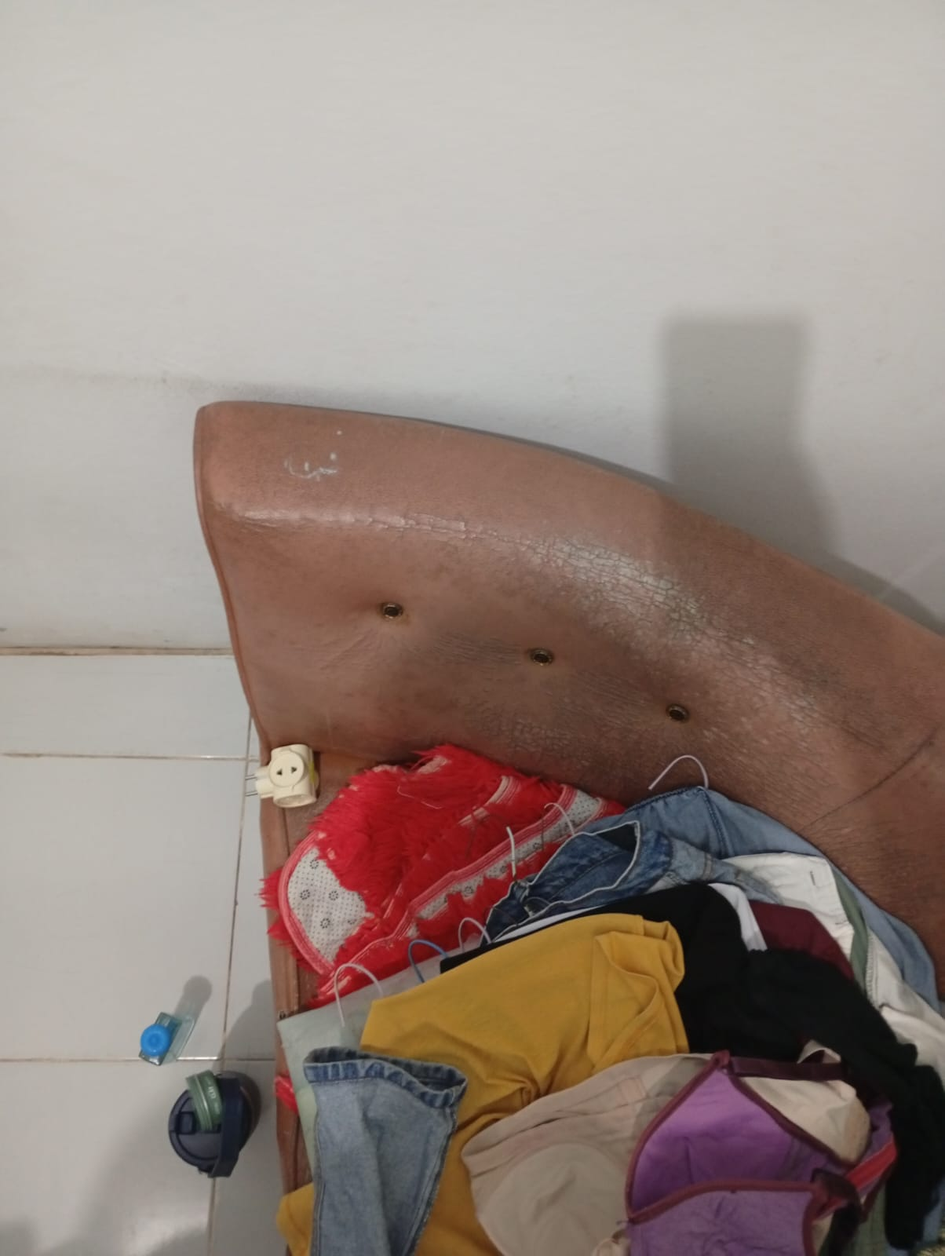Colokan: (223, 742, 327, 813)
Minyak_Rambut: (183, 1067, 223, 1133)
Parfum: (121, 1003, 193, 1069)
Tupperware: (162, 1067, 267, 1193)
